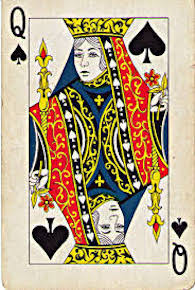QueenOfSpades: (3, 1, 195, 284)
